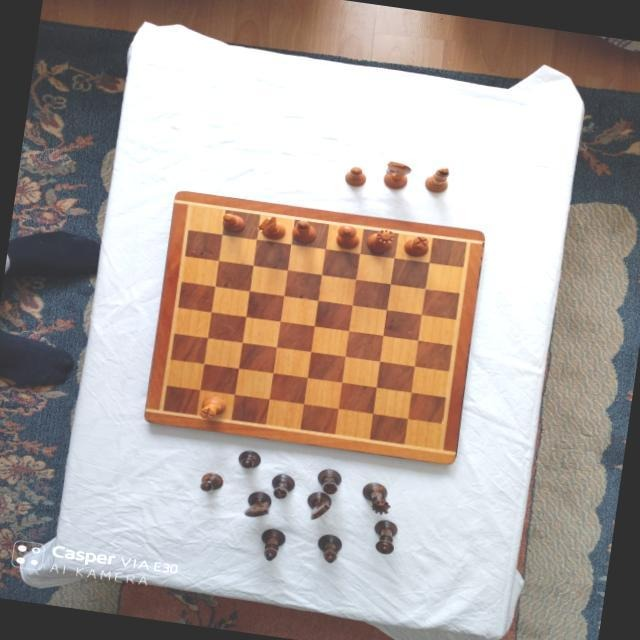black-bishop: (257, 527, 287, 563), (313, 531, 343, 564)
black-king: (369, 518, 402, 558)
black-knight: (303, 490, 333, 522), (242, 488, 272, 519)
black-pawn: (198, 470, 226, 494), (237, 449, 263, 471)
black-queen: (358, 480, 394, 516)
black-rook: (267, 472, 296, 501), (314, 468, 342, 496)
white-bishop: (422, 164, 453, 195), (288, 218, 319, 246)
white-king: (334, 224, 362, 252)
white-knight: (378, 159, 414, 193), (255, 214, 287, 242)
white-pawn: (340, 164, 367, 189), (220, 213, 246, 235)
white-queen: (363, 225, 397, 254)
white-rook: (196, 394, 229, 422), (402, 233, 430, 258)
